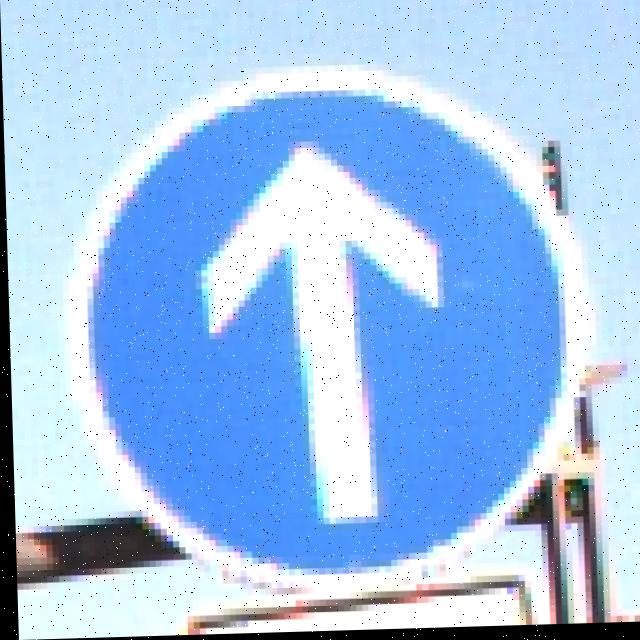compulsory_ahead: (104, 60, 577, 576)
